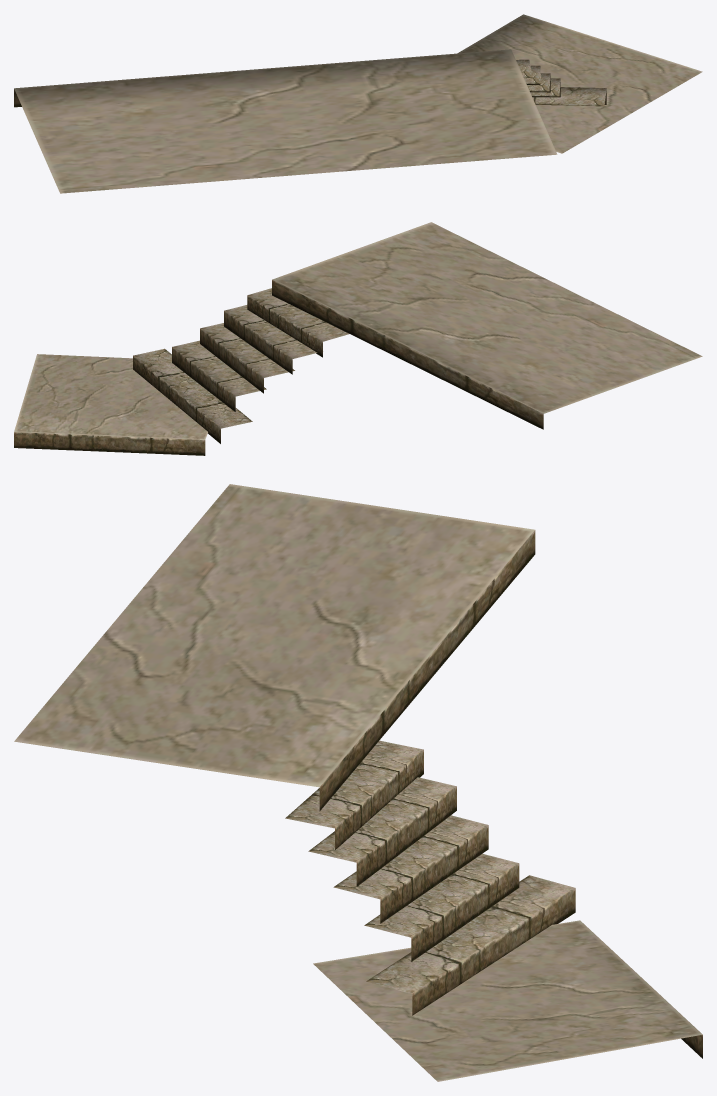
File: HTOWN01_BAGENDSTEPS.fbx
3 views of the same model, one above another, from view 1: azimuth 30°, elevation 25°; view 2: azimuth 150°, elevation 25°; view 3: azimuth 270°, elevation 25° (orthographic). The views are drawn at different scales.
Parts seen in each view (by area): view 1: HTOWN01_BAGENDSTEPS; view 2: HTOWN01_BAGENDSTEPS; view 3: HTOWN01_BAGENDSTEPS.
Boxes of the visible parts, bbox=[...] form: HTOWN01_BAGENDSTEPS: bbox=[14, 14, 702, 193]; HTOWN01_BAGENDSTEPS: bbox=[14, 222, 702, 455]; HTOWN01_BAGENDSTEPS: bbox=[14, 484, 702, 1081].
Bounding box in the file's own units: 98851 × 17410 × 63708.
2 materials, 2 textured.
